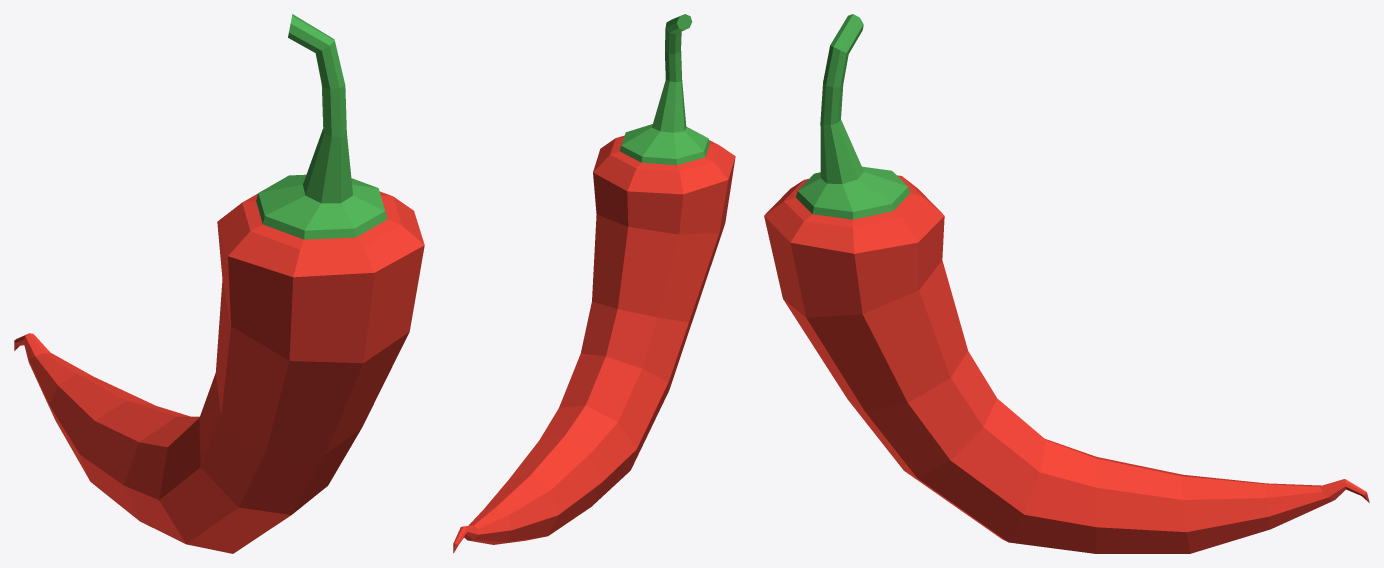
The model's file is chili-pepper.glb.
3 views of the same model, side by side, from view 1: azimuth 30°, elevation 25°; view 2: azimuth 150°, elevation 25°; view 3: azimuth 270°, elevation 25° (orthographic). The views are drawn at different scales.
Parts seen in each view (by area): view 1: Circle.003_Circle.012; view 2: Circle.003_Circle.012; view 3: Circle.003_Circle.012.
Part boxes in pixels (x1=…): Circle.003_Circle.012: x1=14, y1=14, x2=424, y2=553; Circle.003_Circle.012: x1=453, y1=14, x2=735, y2=553; Circle.003_Circle.012: x1=764, y1=14, x2=1369, y2=553.
Bounding box in the file's own units: 3.51 × 11.27 × 11.76.
